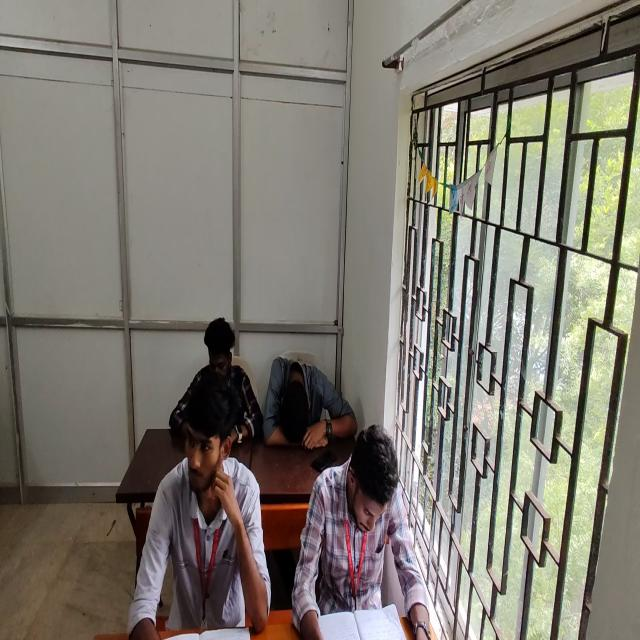reading: (296, 430, 445, 640)
sleeping: (261, 344, 362, 456)
turning: (117, 371, 276, 640)
using_mobile: (170, 314, 267, 448)
